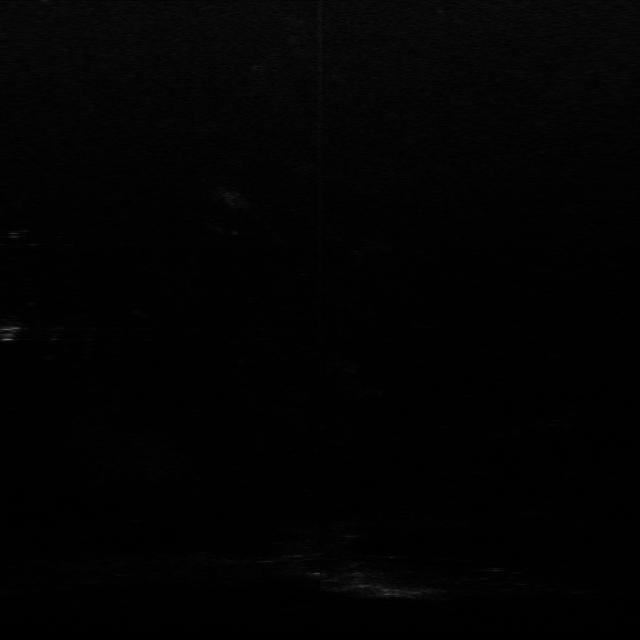rov: (0, 322, 22, 344)
